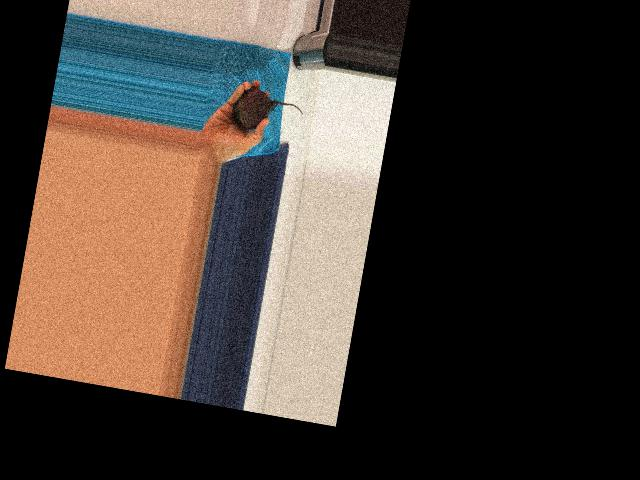beet: (229, 84, 305, 137)
